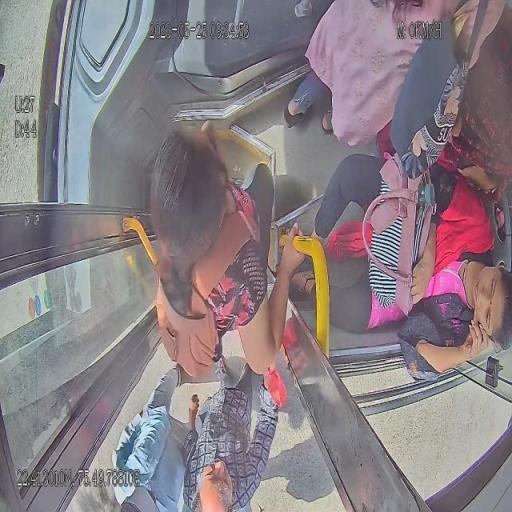persona: (292, 153, 512, 384), (148, 123, 306, 386), (285, 1, 511, 168), (182, 354, 284, 510), (114, 357, 186, 512)
